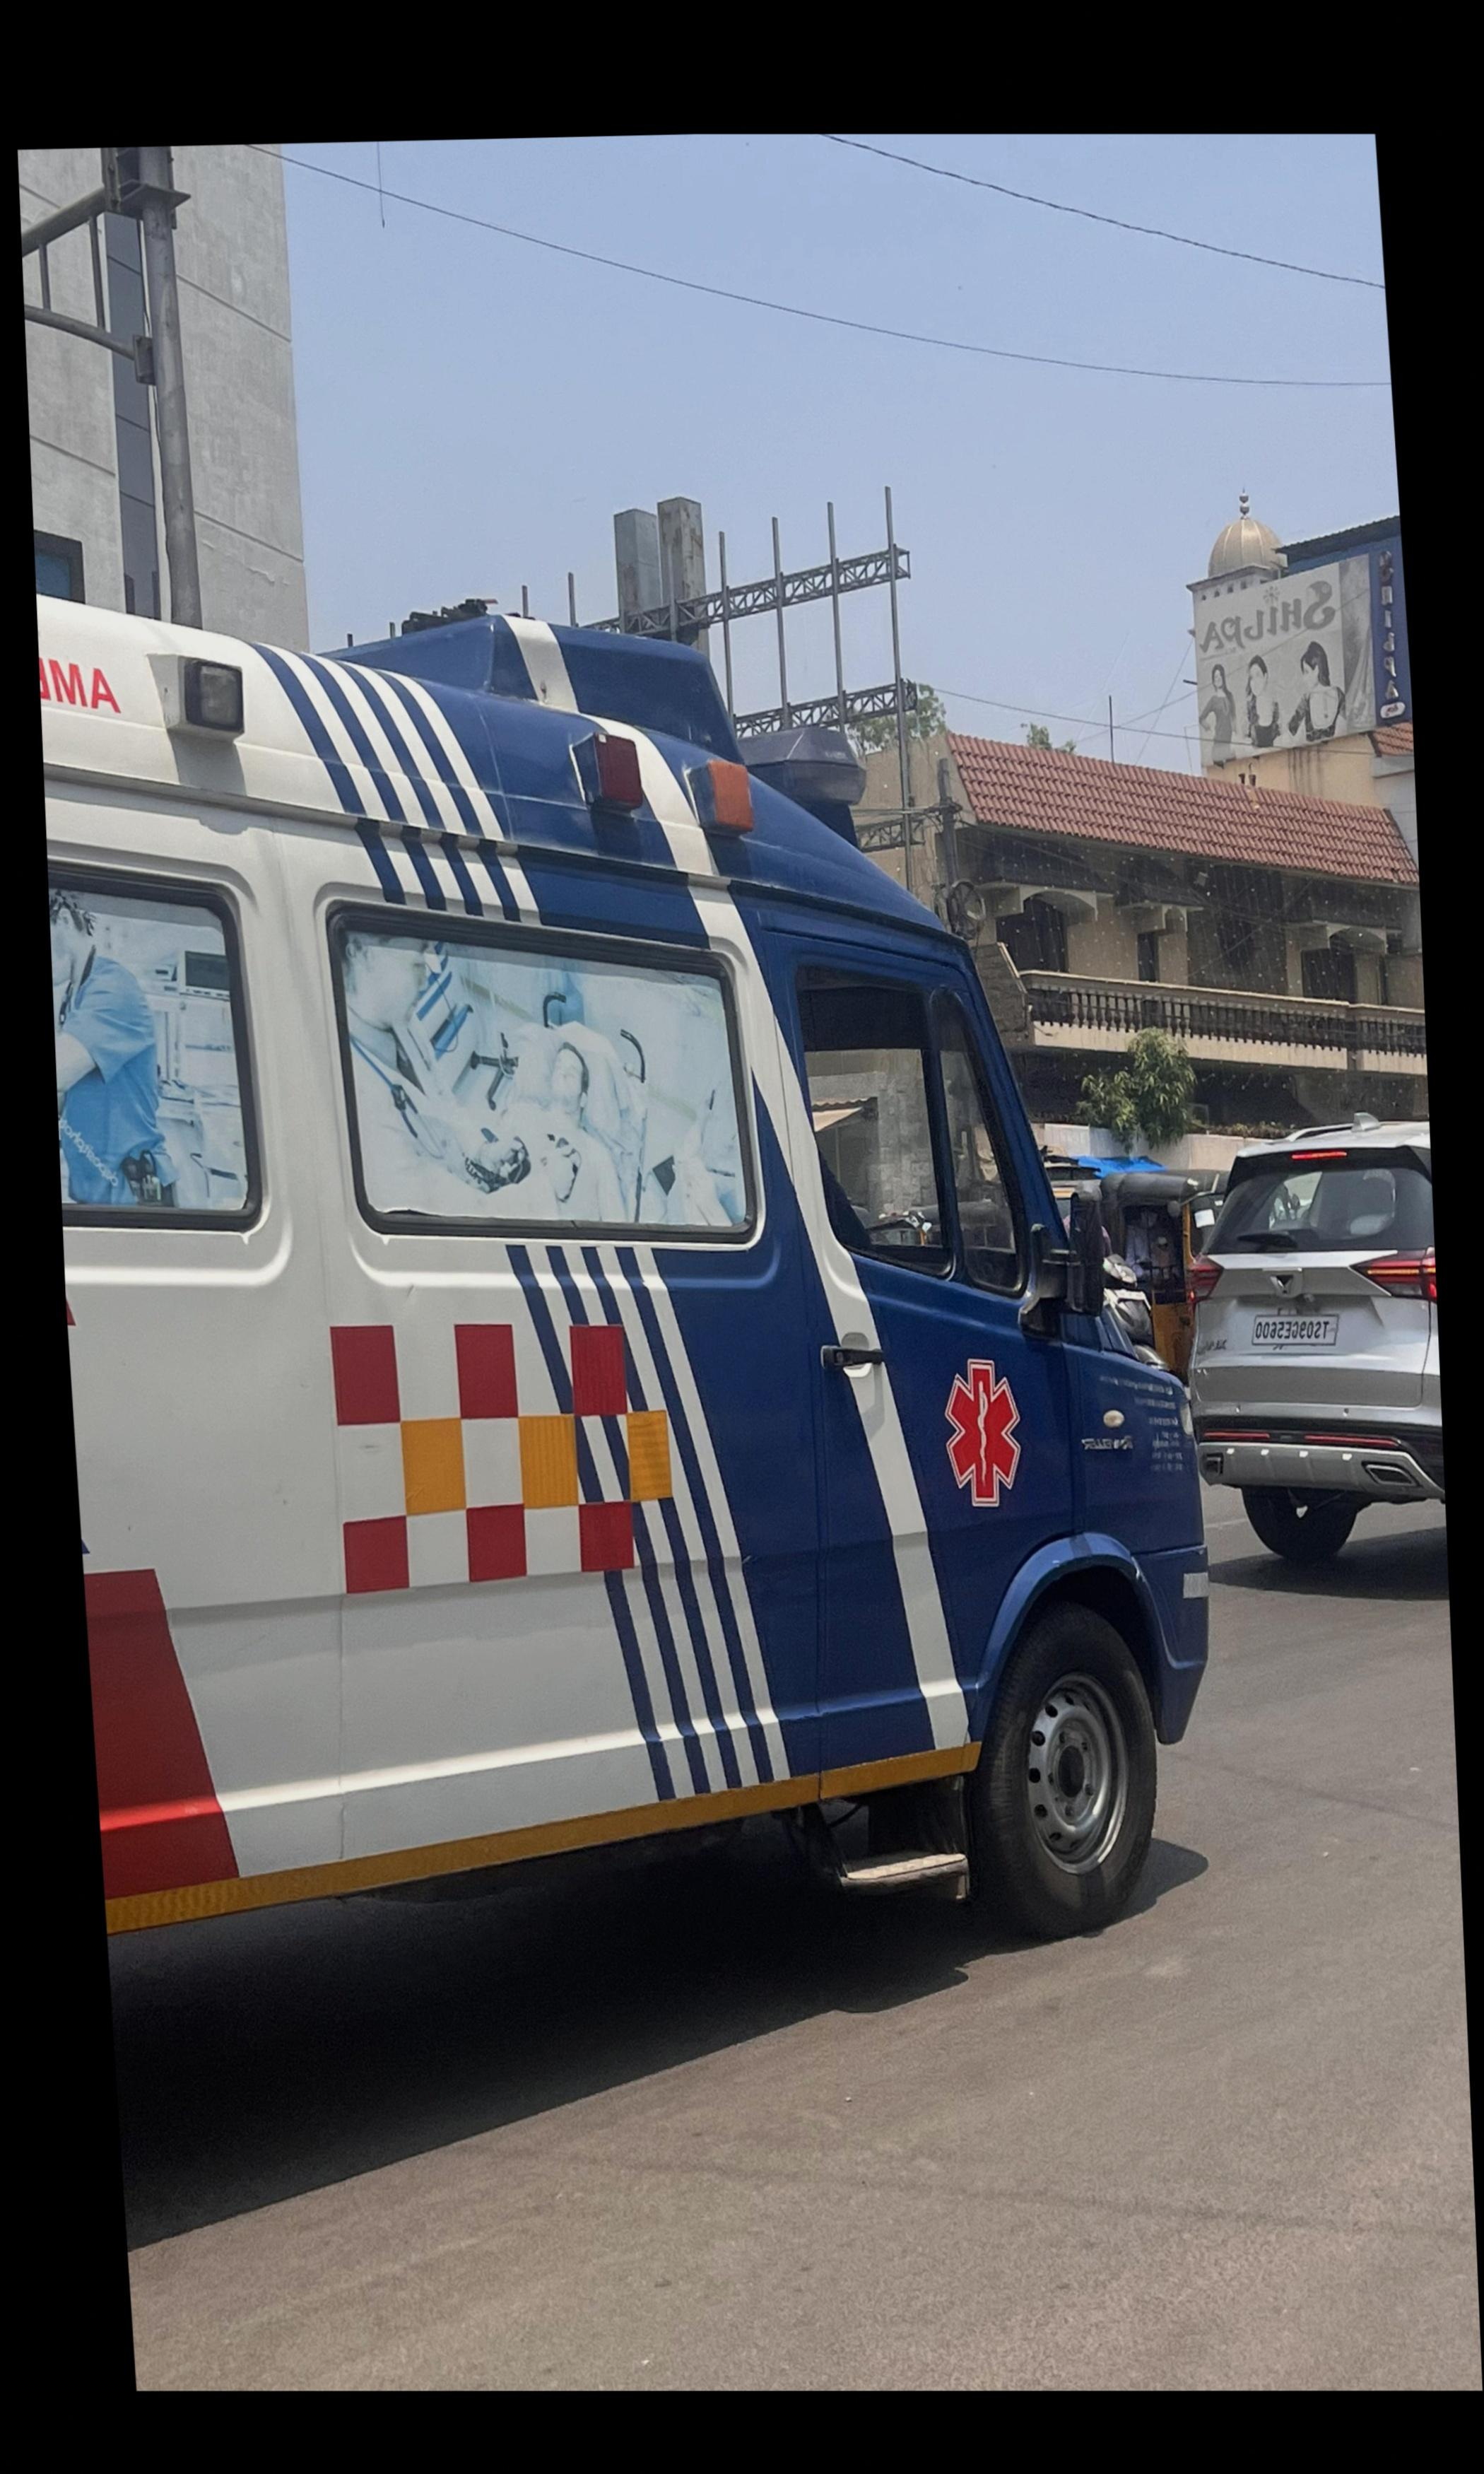ambulance: (28, 527, 1212, 1940)
